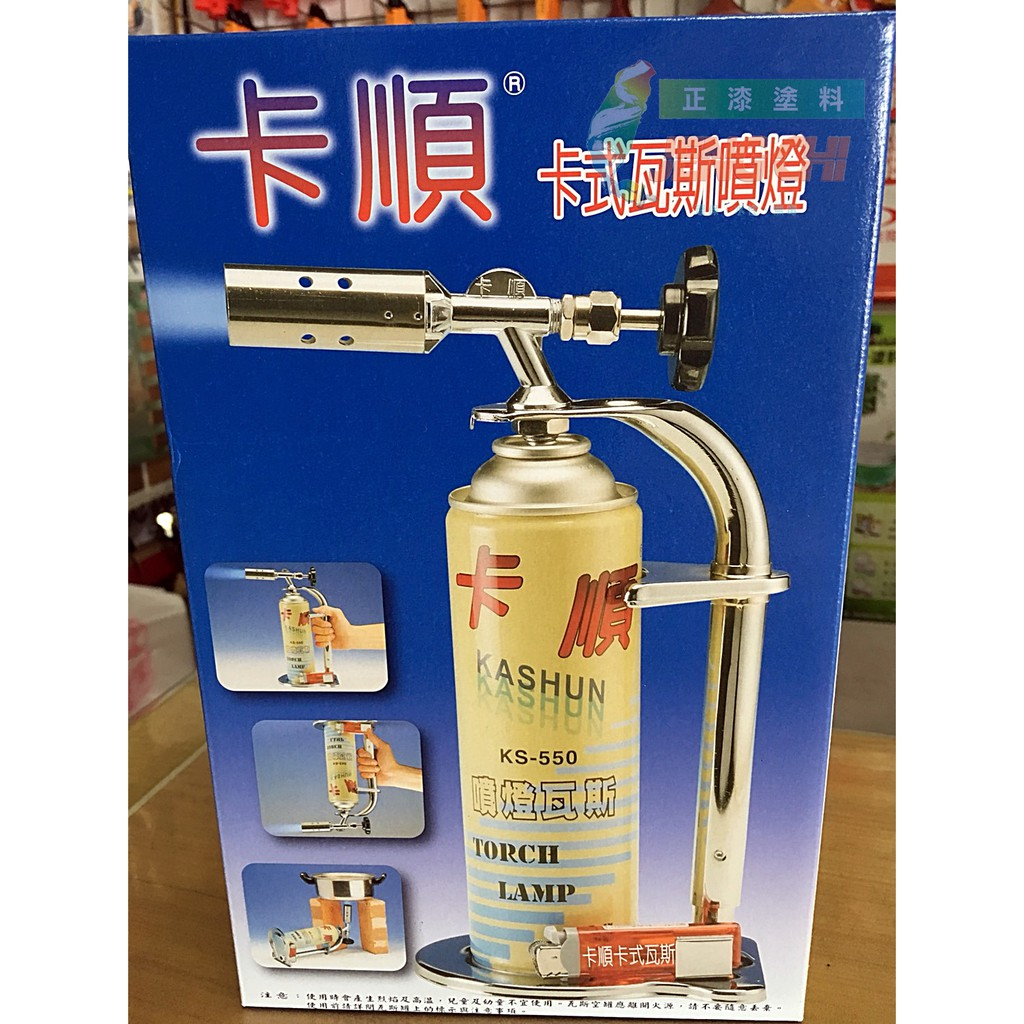gastorch: (225, 254, 786, 1001), (285, 720, 383, 842), (241, 567, 337, 688), (264, 903, 364, 969)
